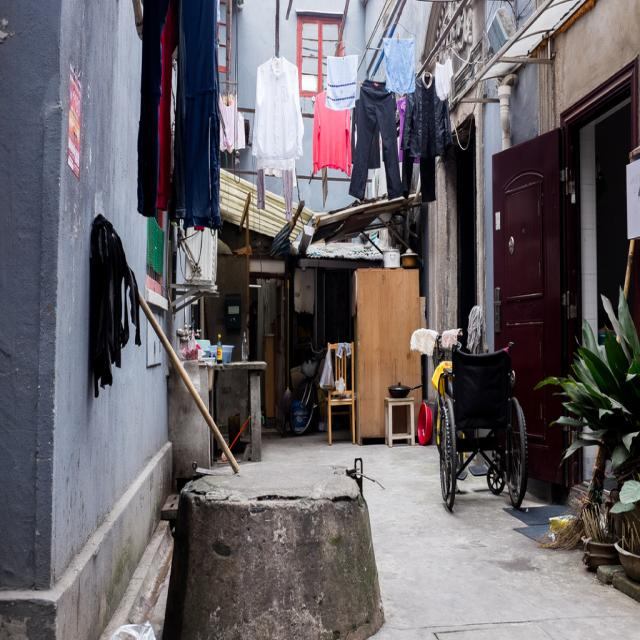wheelchairs: (431, 338, 532, 519)
